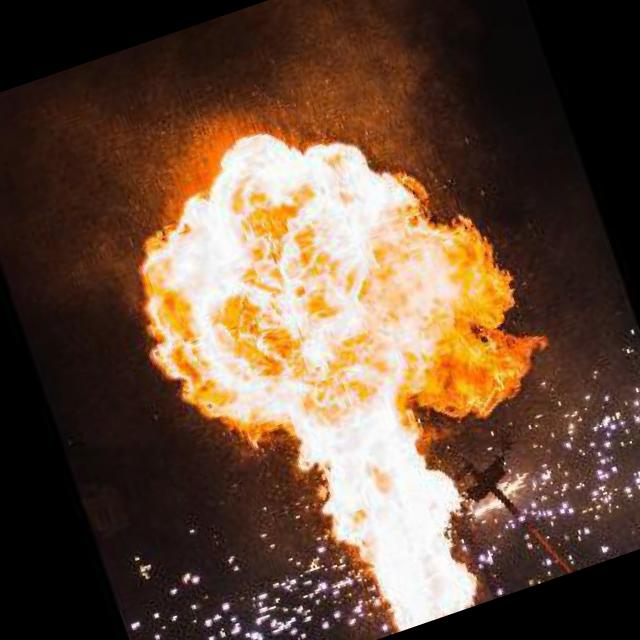fire: (87, 62, 605, 640)
